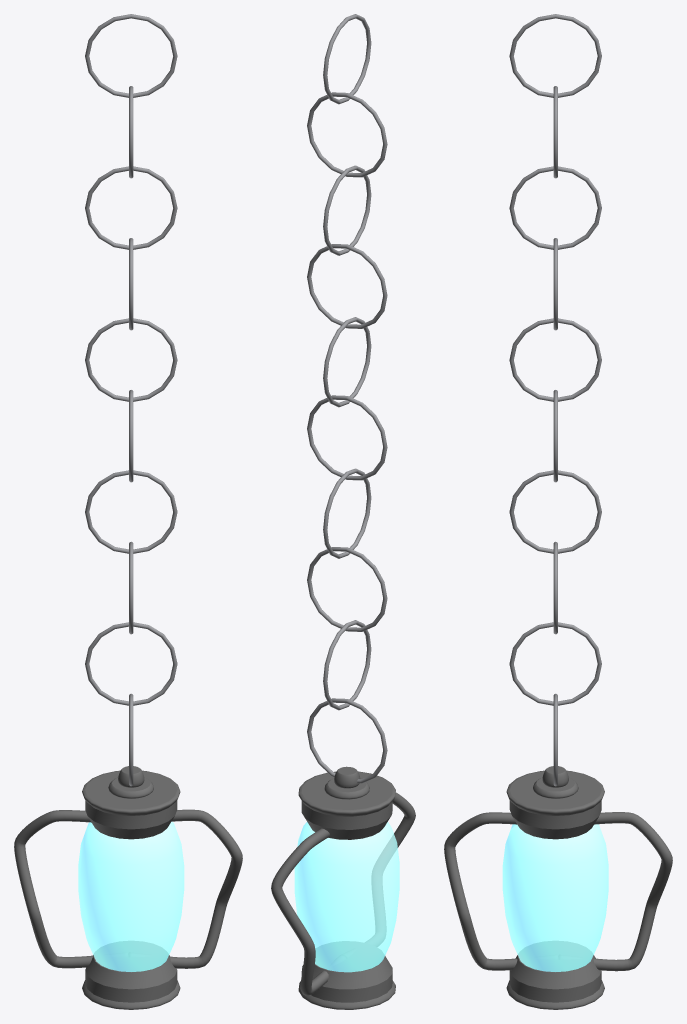
File: Lanterns.glb
The picture shows the model from 3 angles, left to right: view 1: azimuth 90°, elevation 25°; view 2: azimuth 150°, elevation 25°; view 3: azimuth 270°, elevation 25°; orthographic projection.
Visible parts, largest first — view 1: Light, Torus Patch (×5), Frame (×2), Bottom (×3), Top (×2), TopTwo, ChainMount; view 2: Light, Torus Patch (×10), Bottom (×3), Frame (×2), Top (×2), ChainMount (×2), TopTwo; view 3: Light, Torus Patch (×5), Frame (×2), Bottom (×3), Top (×2), TopTwo, ChainMount.
Boxes of the visible parts, x1,y1,x2,y2 form: Light: (78,821,184,971); Torus Patch (×5): (85,14,177,705); Frame (×2): (14,809,242,968); Bottom (×3): (82,941,180,1009); Top (×2): (82,770,180,829); TopTwo: (88,816,174,839); ChainMount: (108,777,153,798); Light: (294,822,399,972); Torus Patch (×10): (307,14,387,783); Bottom (×3): (298,941,395,1009); Frame (×2): (271,792,415,995); Top (×2): (298,771,395,829); ChainMount (×2): (324,766,369,799); TopTwo: (306,815,391,839); Light: (502,824,608,971); Torus Patch (×5): (509,14,601,705); Frame (×2): (444,812,672,971); Bottom (×3): (506,941,604,1009); Top (×2): (506,770,604,829); TopTwo: (512,816,598,839); ChainMount: (533,777,578,798).
Size of the model in its own units: 0.1441 by 1.46 by 0.3111.
